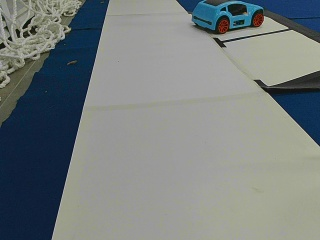car: (192, 2, 264, 33)
